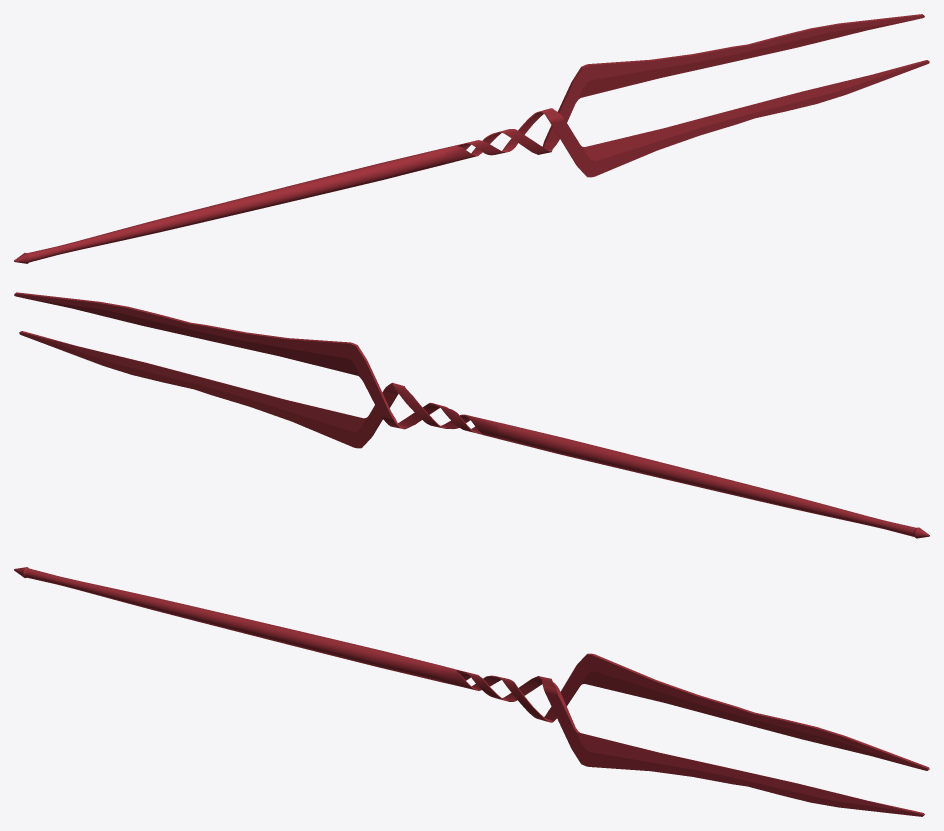
File: Longinus _blender.fbx
3 renders of one model, top to bottom at view 1: azimuth 30°, elevation 25°; view 2: azimuth 150°, elevation 25°; view 3: azimuth 330°, elevation 25°, orthographic.
Parts seen in each view (by area): view 1: ha_U.001, ha_D.001, E_moto.001, E_D.001, E_U.001; view 2: ha_D.001, ha_U.001, E_moto.001, E_U.001, E_D.001; view 3: ha_U.001, ha_D.001, E_moto.001, E_D.001, E_U.001.
Boxes of the visible parts, x1,y1,x2,y2 form: ha_U.001: (544,60,929,177); ha_D.001: (542,14,924,150); E_moto.001: (14,148,445,263); E_D.001: (444,129,552,164); E_U.001: (443,108,554,163); ha_D.001: (14,292,399,427); ha_U.001: (19,331,398,448); E_moto.001: (498,423,929,538); E_U.001: (391,382,500,438); E_D.001: (390,402,499,435); ha_U.001: (542,680,924,816); ha_D.001: (544,653,929,770); E_moto.001: (14,567,443,682); E_D.001: (440,667,553,722); E_U.001: (441,666,552,701).
Bounding box in the file's own units: 473 × 53.38 × 7.7.
